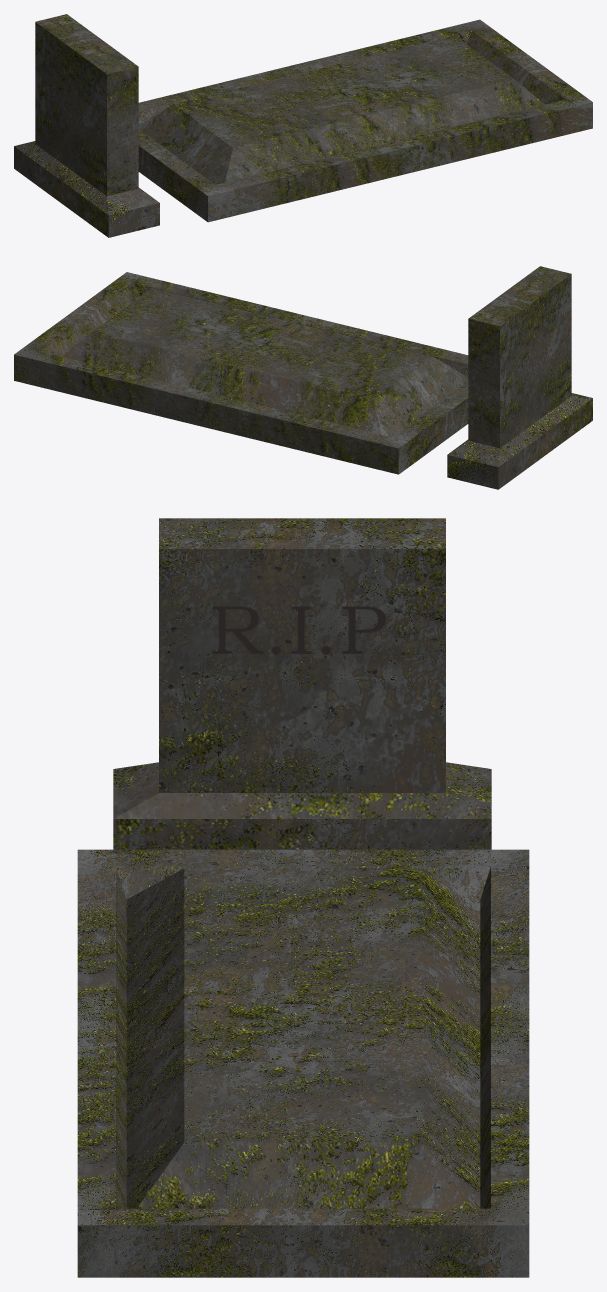
File: Mr Grave.FBX
The picture shows the model from 3 angles, top to bottom: view 1: azimuth 30°, elevation 25°; view 2: azimuth 150°, elevation 25°; view 3: azimuth 270°, elevation 25°; orthographic projection. The views are drawn at different scales.
Visible parts, largest first — view 1: Box001, Box002; view 2: Box001, Box002; view 3: Box001, Box002.
Part boxes in pixels (x1,y1,x2,y2): Box001: (138,19,592,222); Box002: (14,14,159,237); Box001: (14,272,468,474); Box002: (447,266,592,489); Box001: (77,849,529,1277); Box002: (113,518,491,849).
Size of the model in its own units: 70.59 by 21.69 by 29.05.
